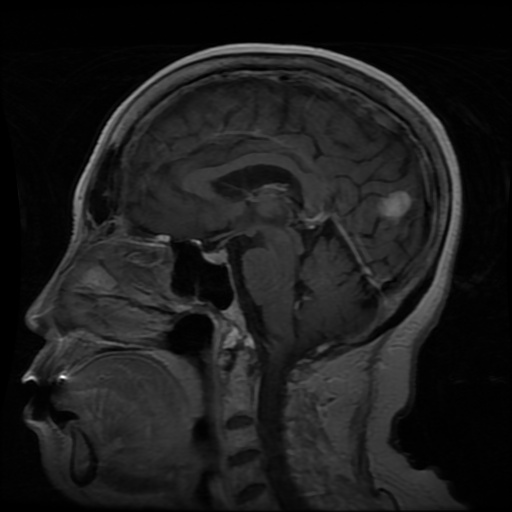meningioma: (377, 190, 411, 215)
